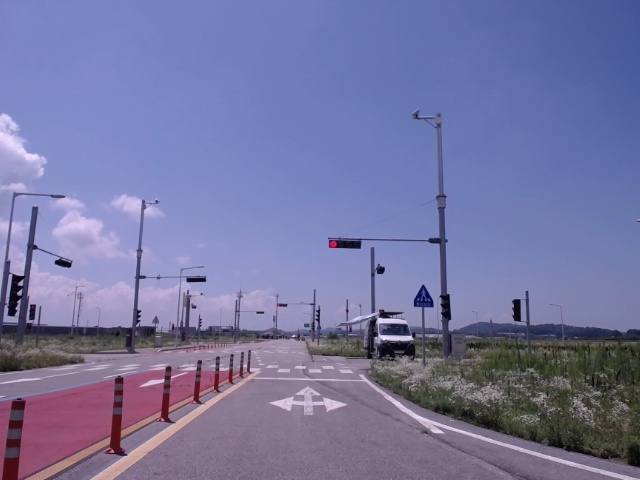red_4: (328, 239, 362, 250)
